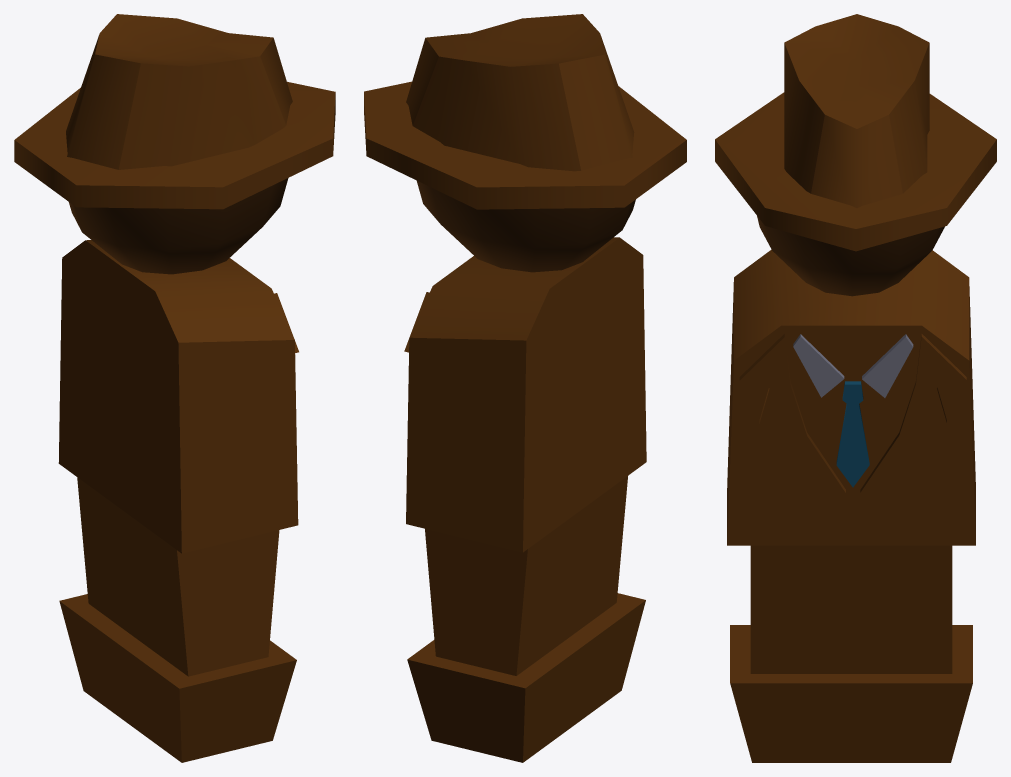
File: Main_Character.FBX
The picture shows the model from 3 angles, left to right: view 1: azimuth 30°, elevation 25°; view 2: azimuth 150°, elevation 25°; view 3: azimuth 270°, elevation 25°; orthographic projection.
Visible parts, largest first — view 1: Box002, Box004, Cylinder001, Sphere001; view 2: Box002, Box004, Cylinder001, Sphere001; view 3: Box002, Box004, Cylinder001, Sphere001, Box005, Box008, Box006, Box009, Box007.
Part boxes in pixels (x1,y1,x2,y2): Box002: [58, 240, 298, 762]; Box004: [66, 14, 292, 169]; Cylinder001: [14, 81, 335, 209]; Sphere001: [69, 178, 288, 274]; Box002: [406, 237, 646, 762]; Box004: [406, 14, 634, 171]; Cylinder001: [364, 81, 686, 209]; Sphere001: [417, 181, 635, 272]; Box002: [727, 249, 975, 762]; Box004: [784, 14, 929, 207]; Cylinder001: [715, 92, 996, 251]; Sphere001: [757, 216, 944, 296]; Box005: [739, 334, 845, 492]; Box008: [860, 334, 966, 492]; Box006: [836, 381, 869, 487]; Box009: [862, 334, 913, 397]; Box007: [793, 334, 844, 397].
Bounding box in the file's own units: 8.75 × 19.58 × 7.28.
